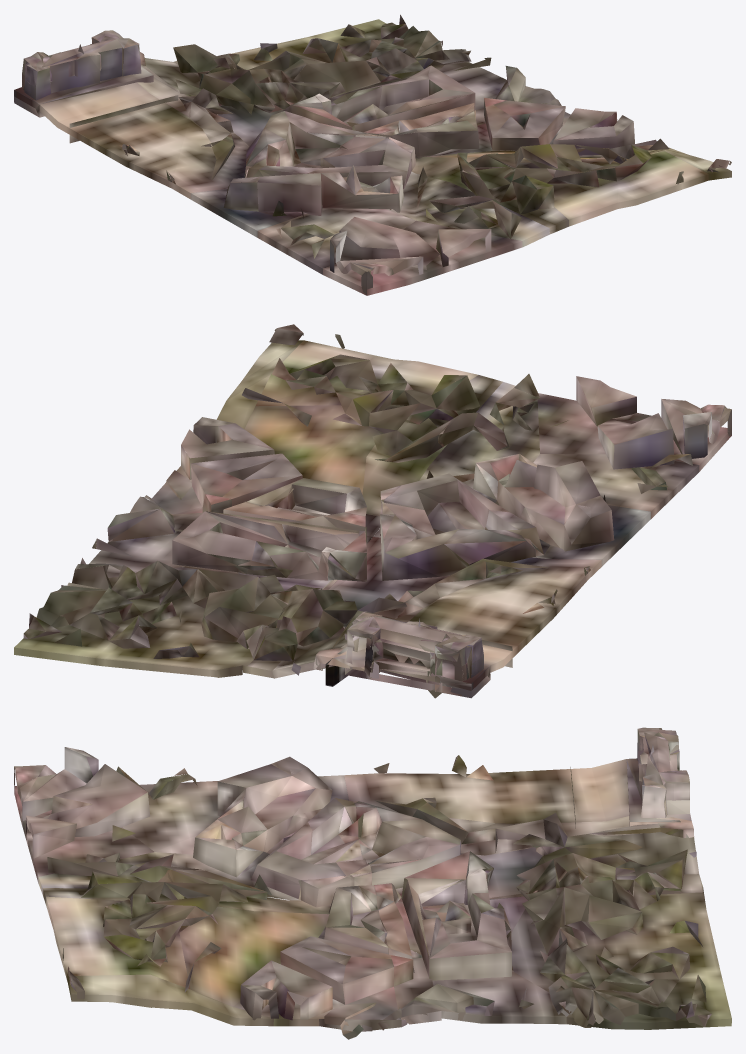
The picture shows the model from 3 angles, top to bottom: view 1: azimuth 30°, elevation 25°; view 2: azimuth 150°, elevation 25°; view 3: azimuth 270°, elevation 25°; orthographic projection. The views are drawn at different scales.
Parts seen in each view (by area): view 1: Mesh_0; view 2: Mesh_0; view 3: Mesh_0.
Boxes of the visible parts, x1=… form: Mesh_0: x1=14, y1=14, x2=731, y2=295; Mesh_0: x1=14, y1=324, x2=731, y2=698; Mesh_0: x1=14, y1=727, x2=731, y2=1039.
Bounding box in the file's own units: 532 × 101 × 659.
2 materials, 2 textured.
